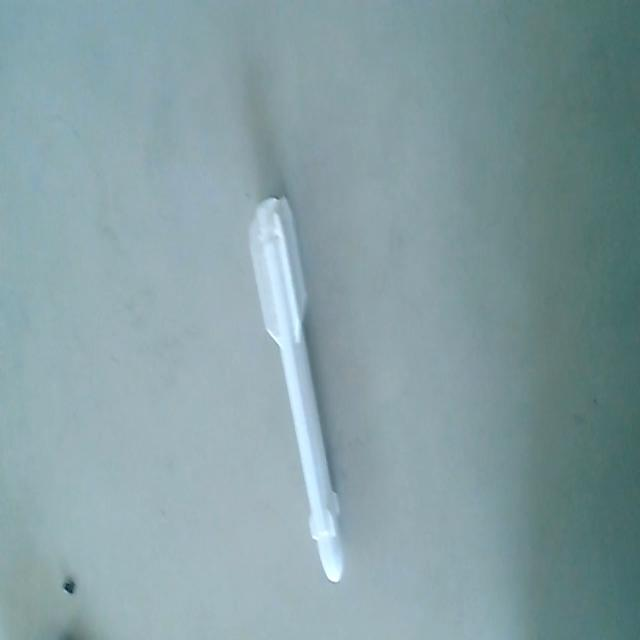Rocket: (247, 190, 347, 589)
